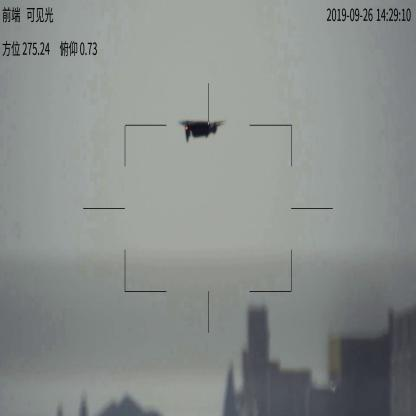uav: (174, 116, 223, 142)
